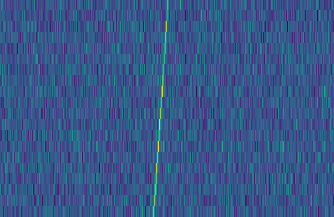signal: (149, 0, 172, 217)
